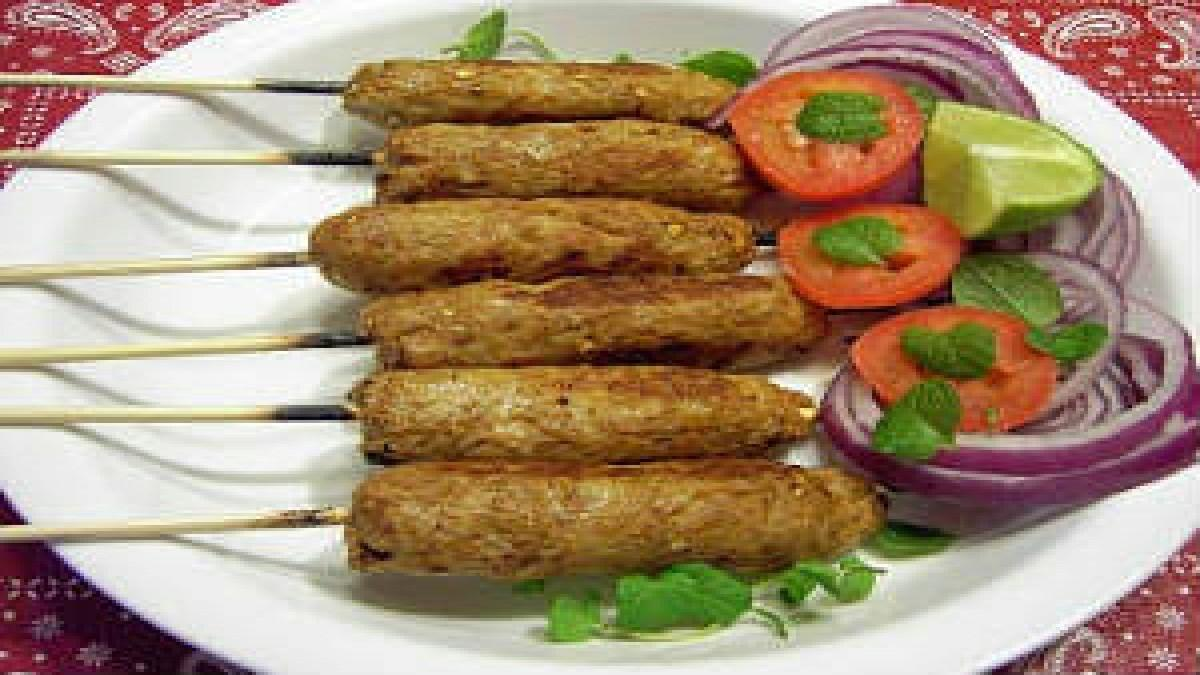Kebab: (346, 457, 885, 584), (349, 362, 818, 464), (312, 200, 754, 296), (362, 279, 834, 366), (366, 119, 764, 208), (342, 58, 741, 126)
